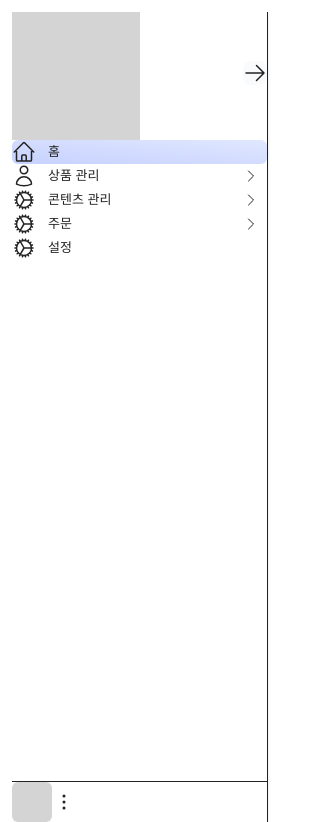
Test: 관리자 사이드바 › 그룹 제목은 링크가 아니다 — 누르면 여닫기만 한다
The width and height of the screenshot is (332, 822).
Click the button "콘텐츠 관리" at (140, 200), box 12,188 -> 267,212
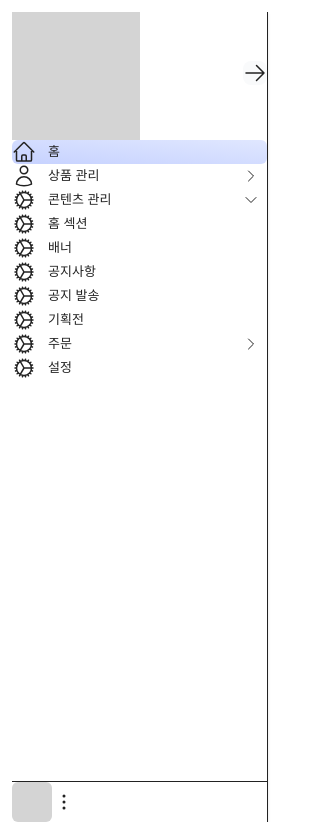
Click the button "콘텐츠 관리" at (140, 200), box 12,188 -> 267,212
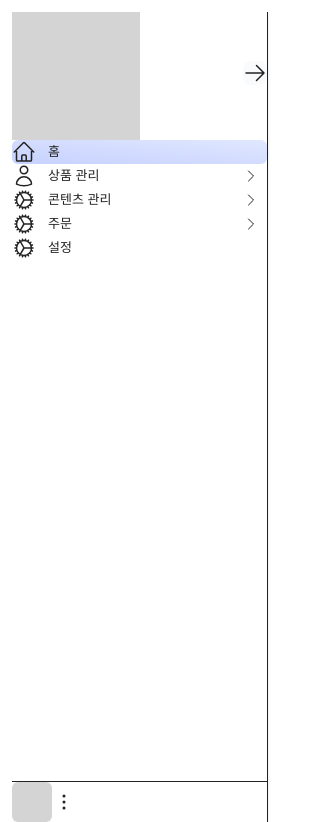
Expected: the button "콘텐츠 관리" is collapsed, 12,188 -> 267,212
Expected: the link "기획전" is gone
